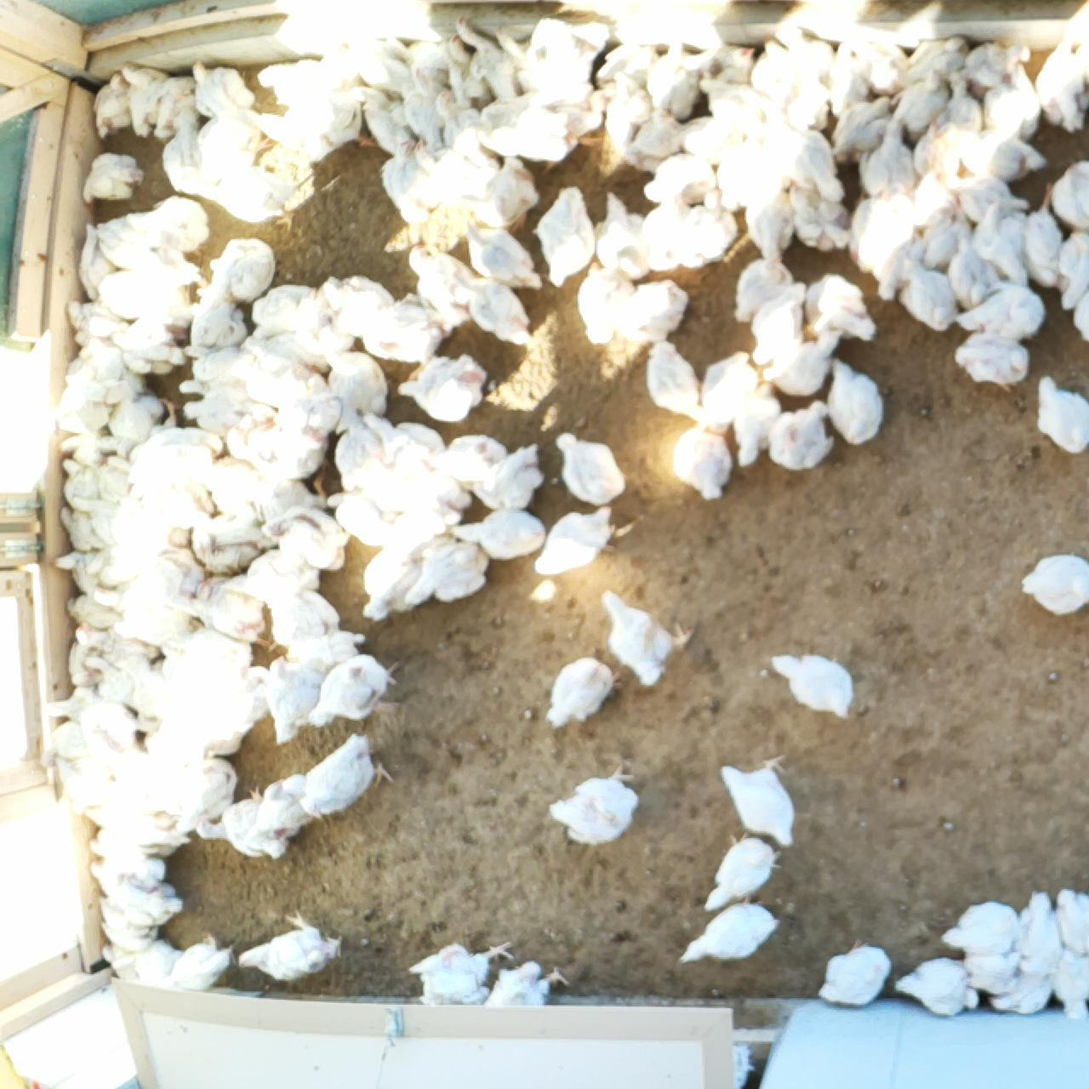chicken: (596, 585, 695, 689), (281, 733, 391, 821), (698, 822, 785, 917), (548, 761, 644, 847), (716, 754, 801, 848), (237, 910, 346, 980), (197, 783, 291, 864), (411, 935, 513, 1009), (677, 897, 778, 970), (307, 651, 401, 729), (517, 89, 610, 165), (534, 182, 596, 292), (205, 462, 314, 524), (458, 216, 543, 295), (200, 107, 277, 193), (770, 648, 859, 722), (397, 352, 487, 424), (322, 347, 392, 438), (361, 295, 450, 366), (91, 212, 188, 277), (891, 949, 980, 1019), (813, 936, 896, 1011), (535, 508, 620, 580), (206, 164, 296, 232), (544, 654, 624, 730), (774, 118, 848, 200), (825, 356, 887, 453), (553, 430, 634, 503), (381, 134, 443, 229), (264, 502, 348, 572), (457, 272, 534, 348), (414, 138, 490, 215), (409, 540, 489, 613), (669, 420, 736, 507), (409, 242, 476, 329), (262, 585, 342, 657), (759, 325, 839, 396), (196, 577, 272, 650), (357, 539, 423, 623), (678, 183, 741, 271), (435, 89, 499, 175), (237, 342, 324, 405), (700, 346, 760, 437), (235, 547, 321, 610), (645, 30, 704, 121), (744, 277, 805, 365), (455, 19, 518, 104), (453, 505, 545, 563), (843, 192, 908, 274), (711, 134, 780, 211), (470, 441, 543, 513), (970, 199, 1032, 283), (1017, 204, 1075, 293), (320, 275, 398, 341), (386, 454, 473, 513), (97, 265, 187, 322), (1035, 37, 1089, 131), (261, 656, 320, 742), (244, 775, 314, 847), (646, 340, 706, 424), (598, 67, 654, 157), (174, 754, 236, 835), (261, 314, 352, 369), (638, 185, 693, 276), (768, 401, 835, 475), (622, 275, 691, 346), (254, 54, 337, 113), (573, 264, 634, 344), (598, 190, 652, 280), (1019, 550, 1089, 619), (805, 272, 875, 341), (302, 88, 375, 154), (953, 329, 1034, 388), (943, 226, 996, 316), (208, 238, 277, 307), (856, 123, 917, 201), (620, 106, 687, 177), (961, 285, 1049, 339), (71, 337, 147, 399), (494, 24, 557, 98), (979, 61, 1038, 140), (195, 514, 270, 576), (939, 898, 1022, 954), (697, 76, 777, 134), (1034, 372, 1089, 456), (341, 32, 414, 95), (882, 71, 955, 134), (957, 127, 1042, 181), (897, 255, 957, 331), (727, 251, 788, 325), (171, 928, 239, 994), (823, 90, 887, 159), (52, 366, 114, 437), (400, 69, 453, 152), (954, 35, 1031, 92), (246, 425, 327, 479), (480, 83, 536, 161), (99, 387, 167, 451), (894, 33, 971, 89), (107, 874, 188, 927), (95, 526, 160, 592), (482, 958, 569, 1007), (1011, 889, 1061, 974), (68, 620, 160, 666), (131, 419, 221, 466), (947, 171, 1031, 221), (88, 833, 167, 886), (848, 36, 912, 101), (790, 188, 857, 250), (366, 413, 449, 463), (183, 294, 244, 362), (745, 182, 793, 267), (640, 151, 714, 206), (482, 153, 539, 224), (732, 379, 777, 468), (148, 549, 206, 618), (771, 21, 841, 78), (433, 432, 509, 484), (919, 191, 971, 267), (162, 109, 205, 199), (121, 61, 171, 138), (122, 312, 182, 376), (700, 37, 759, 102), (281, 629, 366, 674), (115, 933, 185, 987), (135, 197, 207, 249), (985, 969, 1061, 1018), (323, 486, 387, 544), (81, 151, 145, 209), (747, 35, 802, 102), (670, 113, 745, 162), (180, 398, 261, 443), (280, 375, 344, 431), (914, 112, 966, 180), (189, 59, 254, 113), (358, 98, 412, 163), (908, 165, 961, 231), (224, 401, 281, 461), (329, 422, 377, 493), (959, 943, 1023, 996), (876, 231, 926, 298), (55, 752, 109, 814), (122, 655, 176, 717), (72, 227, 121, 295), (72, 702, 144, 748), (93, 901, 159, 951), (824, 40, 870, 111), (116, 603, 196, 643), (783, 70, 832, 134), (58, 456, 113, 513), (407, 39, 466, 92), (1045, 159, 1089, 229), (154, 74, 200, 140), (1053, 225, 1089, 309), (1050, 946, 1089, 1023), (63, 295, 128, 341), (393, 503, 464, 545), (52, 547, 109, 599), (91, 71, 133, 141), (55, 500, 110, 553), (251, 286, 322, 327), (95, 738, 153, 788), (601, 32, 663, 78), (153, 632, 203, 688), (229, 655, 270, 723), (185, 342, 245, 388), (941, 73, 981, 139), (1055, 883, 1089, 960), (83, 795, 151, 832), (191, 720, 248, 762), (174, 369, 248, 401), (38, 717, 87, 765), (84, 655, 135, 701), (64, 638, 110, 689), (92, 572, 143, 617), (46, 686, 105, 724), (64, 591, 118, 632), (94, 454, 137, 502), (57, 426, 105, 469), (83, 856, 132, 898), (103, 939, 145, 985), (0, 819, 3, 824)
